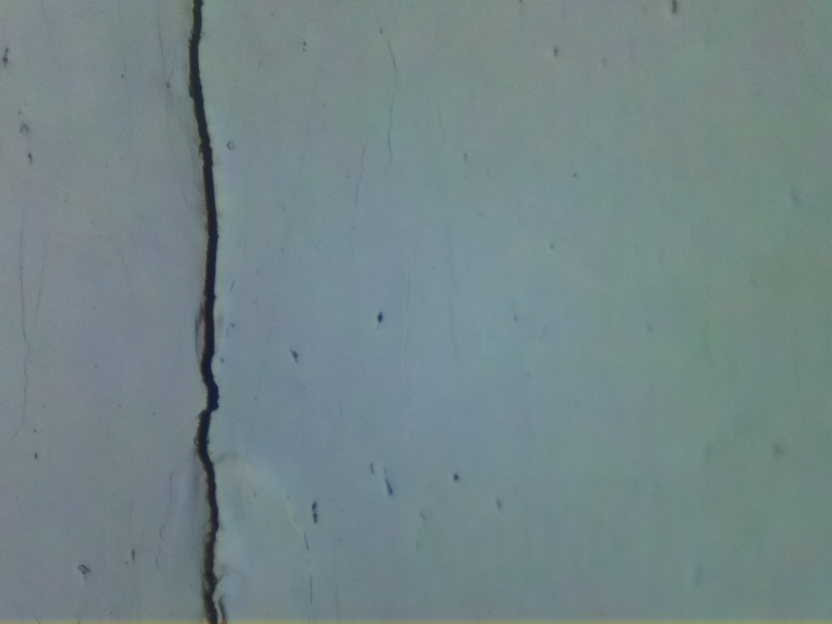crack: (186, 1, 219, 624)
